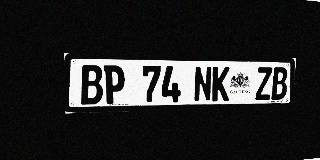4: (161, 66, 181, 103)
7: (141, 66, 161, 103)
B: (80, 65, 103, 105), (271, 67, 288, 100)
K: (212, 66, 230, 101)
N: (193, 66, 212, 102)
P: (103, 65, 125, 104)
Z: (255, 67, 272, 100)
